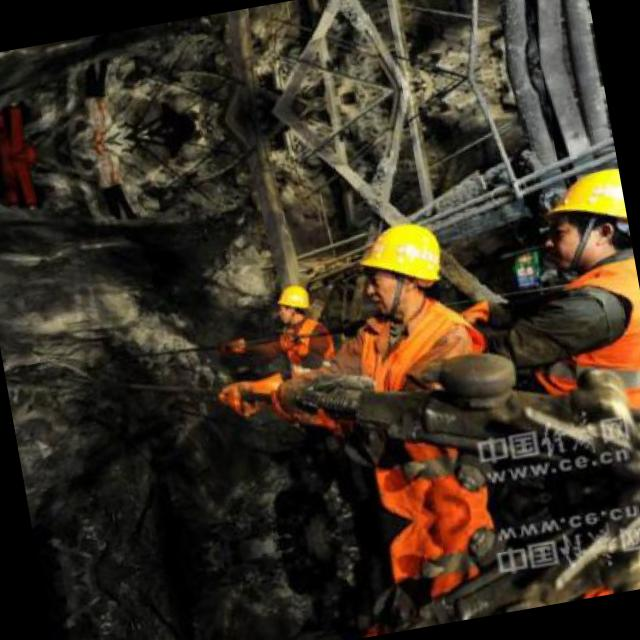helmet: (353, 212, 459, 320), (536, 163, 632, 274), (270, 278, 318, 331)
